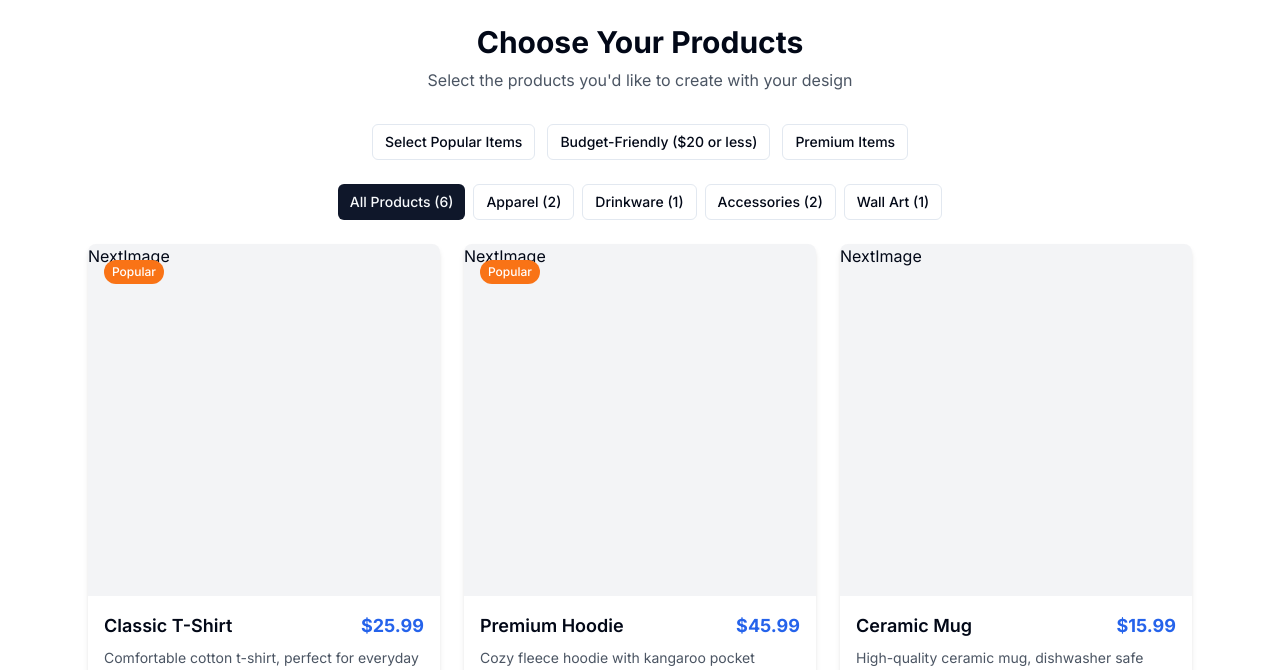
Test case: ProductTypeSelector › filters products by category
# Click on Apparel filter
Click the button "Apparel (2)" at (524, 202), box [473,184,574,220]
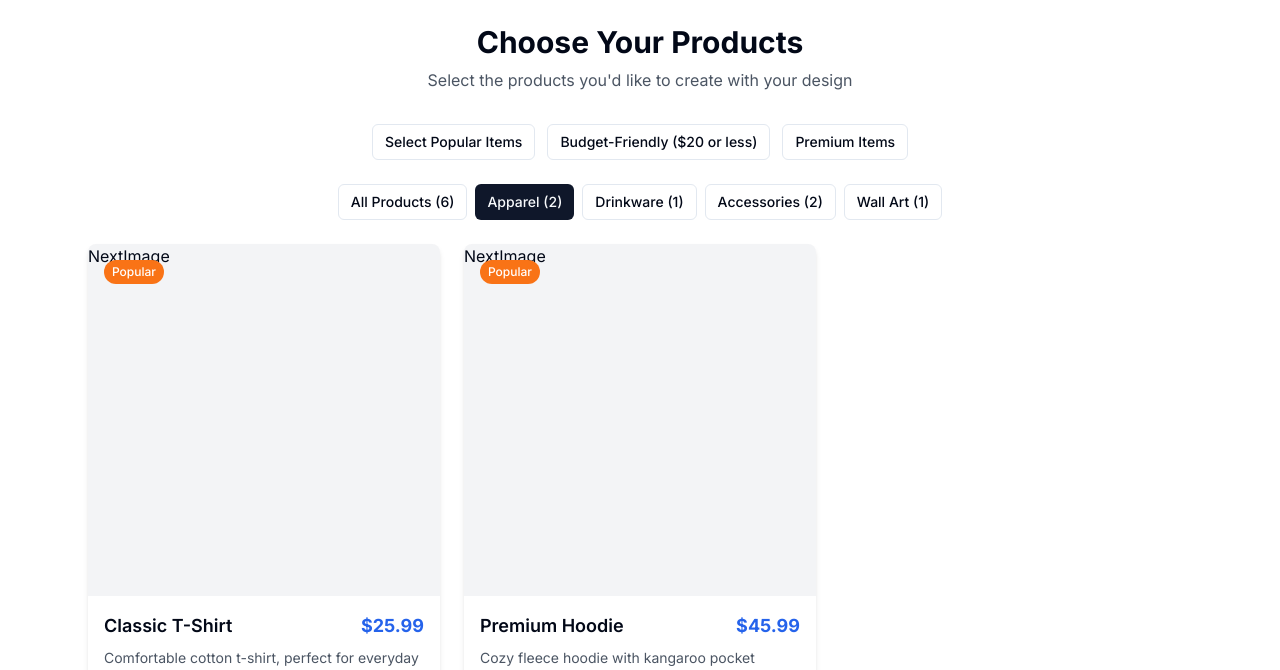
Expected: the heading "Classic T-Shirt" is shown, [104,612,232,640]
Expected: the heading "Ceramic Mug" is gone
